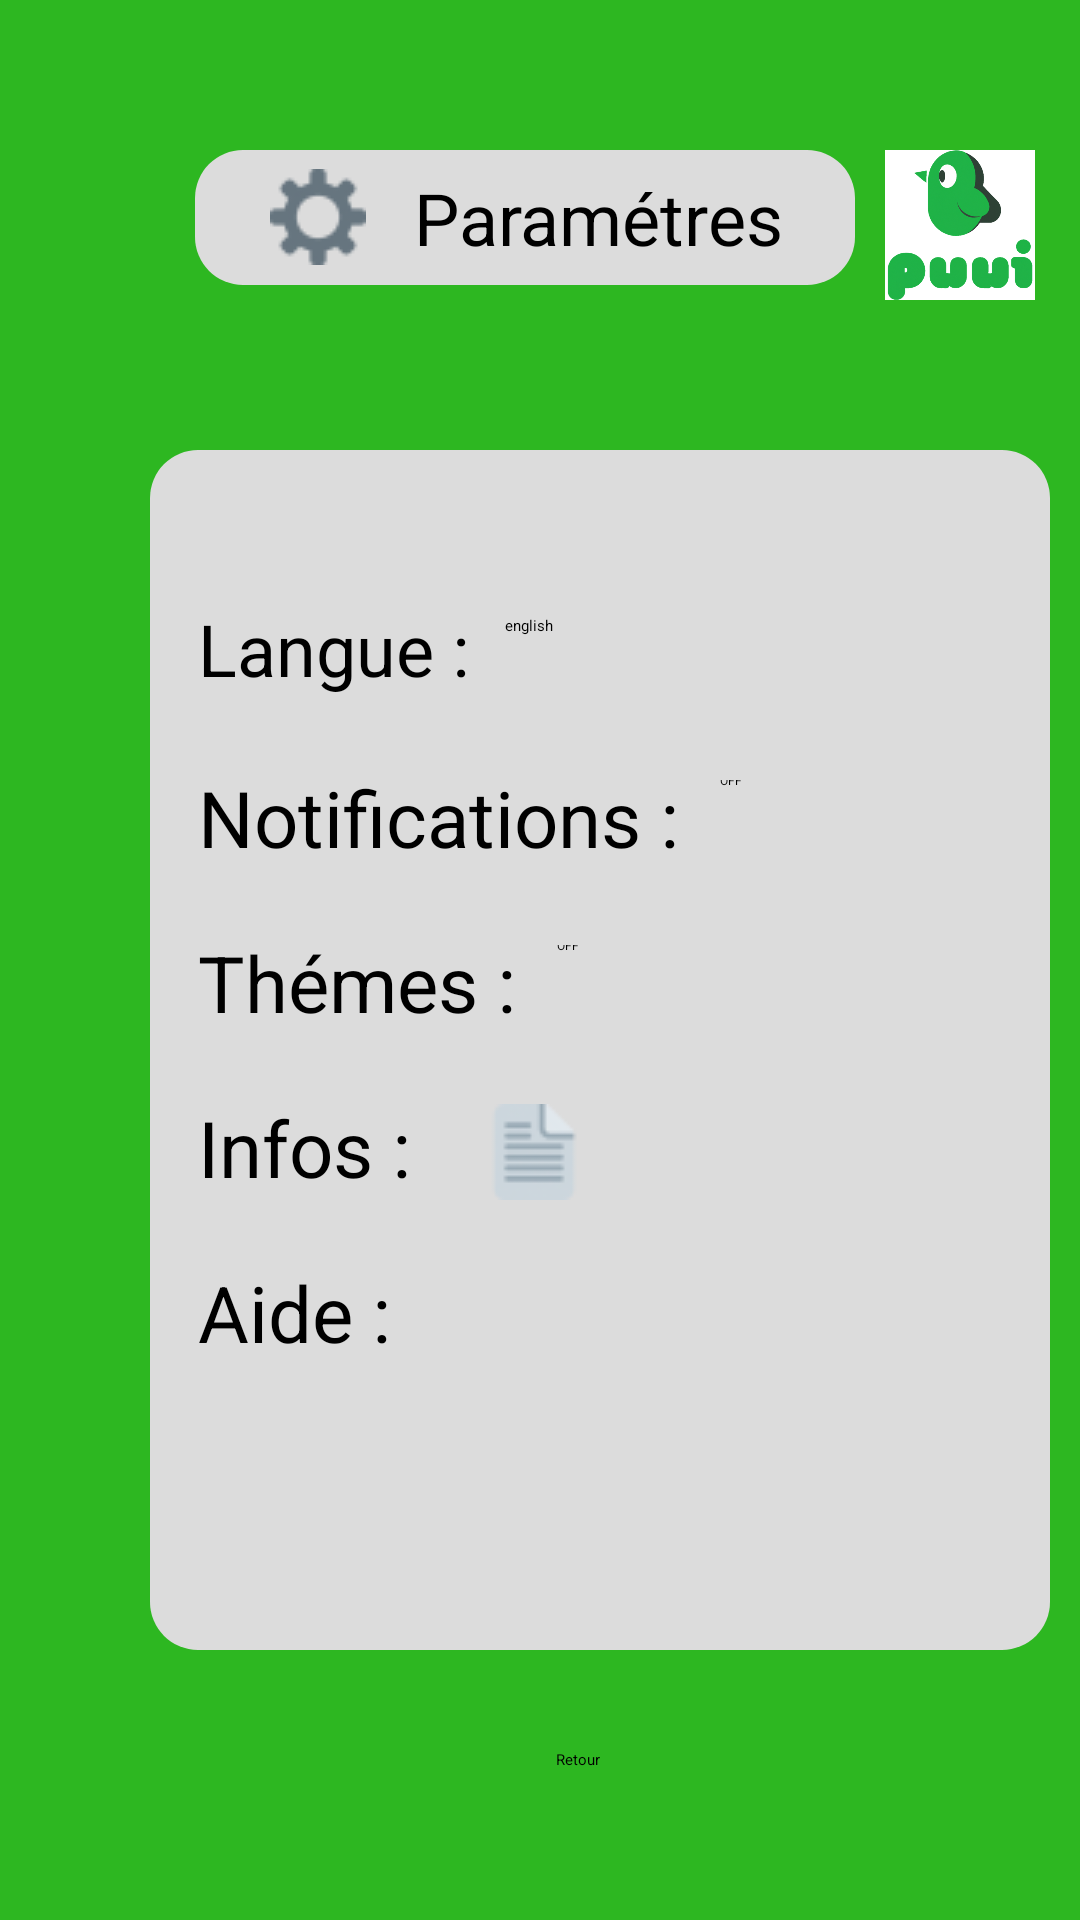

Icon bounding boxes for this 1080 × 1920 phone screenshot, format [x1, y1, x2, y2]:
gear: [270, 169, 366, 265]
